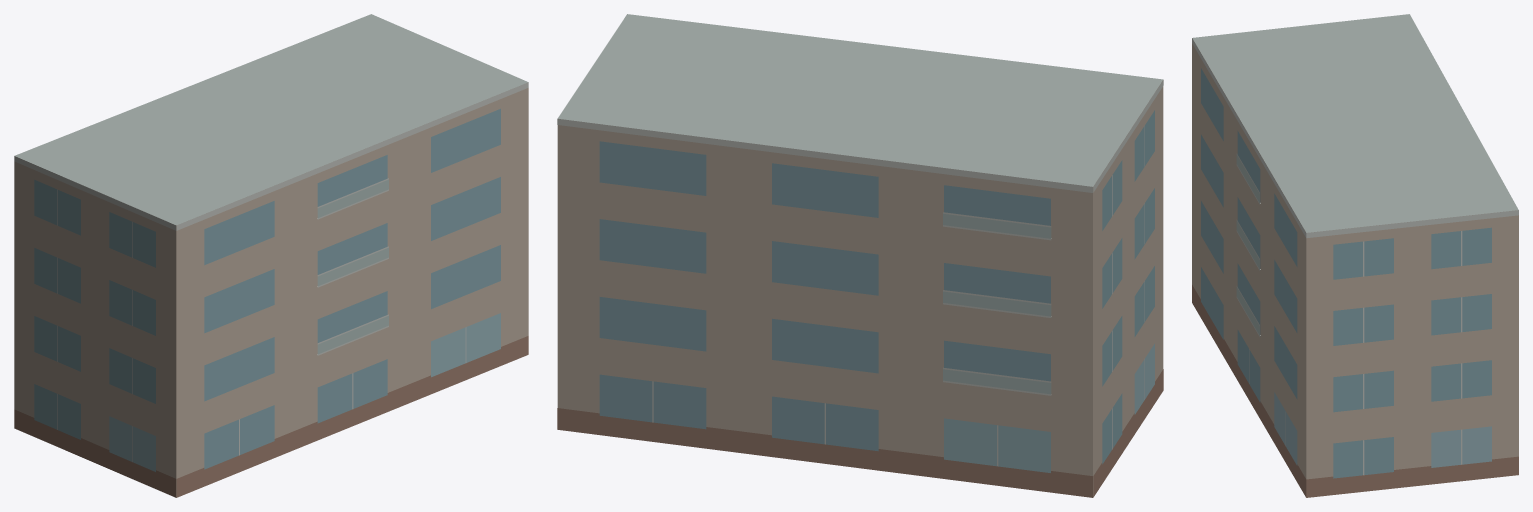
File: survey-upis-32720253.glb
3 views of the same model, side by side, from view 1: azimuth 30°, elevation 25°; view 2: azimuth 150°, elevation 25°; view 3: azimuth 270°, elevation 25° (orthographic). The views are drawn at different scales.
Visible parts, largest first — view 1: survey-upis-32720253.tmp; view 2: survey-upis-32720253.tmp; view 3: survey-upis-32720253.tmp.
Boxes of the visible parts, <box> form: survey-upis-32720253.tmp: <box>14,14,528,497</box>; survey-upis-32720253.tmp: <box>557,14,1163,497</box>; survey-upis-32720253.tmp: <box>1192,14,1518,497</box>.
Bounding box in the file's own units: 21.63 × 12.2 × 13.64.
